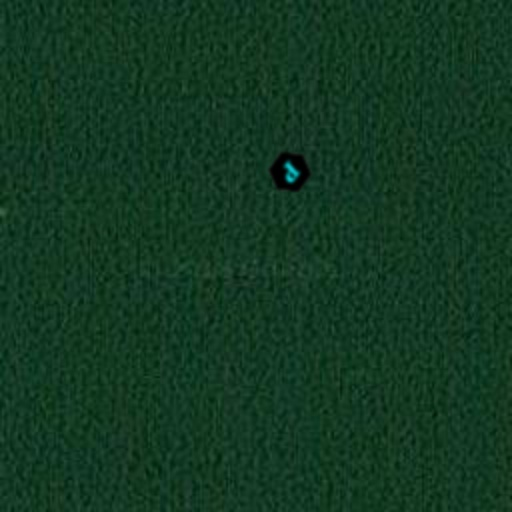hexagon: (258, 140, 322, 204)
